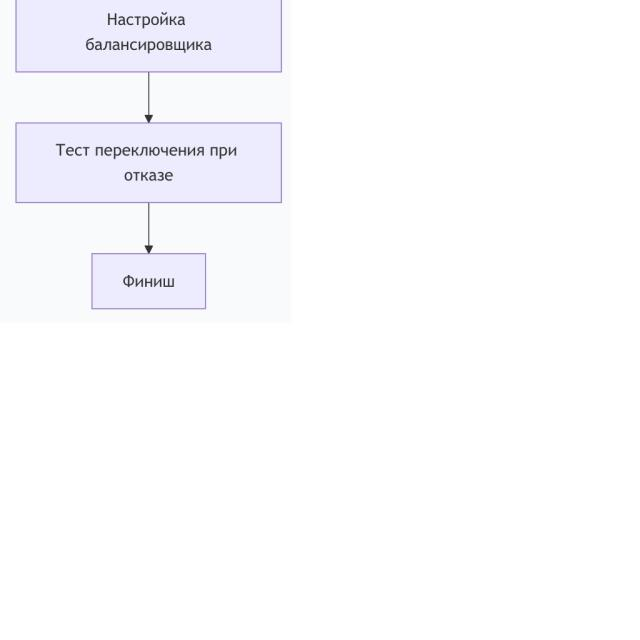arrow: (145, 204, 152, 253), (148, 72, 149, 111)
rectangle: (14, 123, 286, 205), (91, 254, 206, 312)
